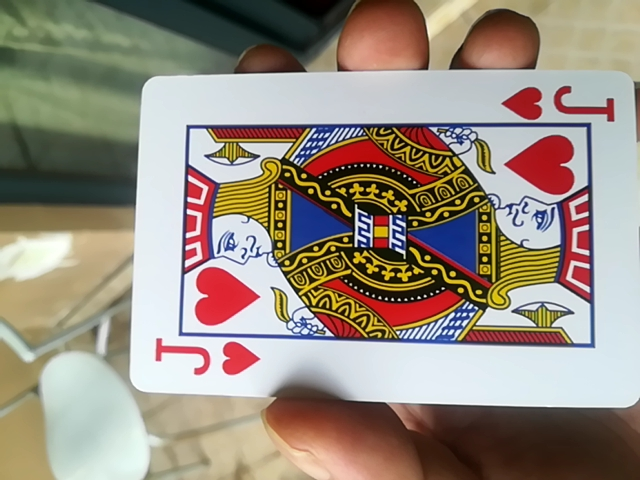hx j: (129, 70, 640, 410)
